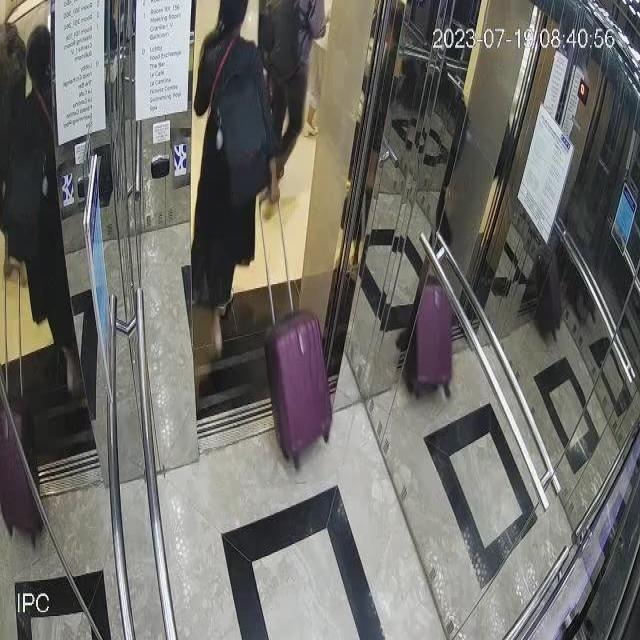person: (5, 28, 86, 408), (193, 0, 261, 352), (266, 0, 327, 221)
